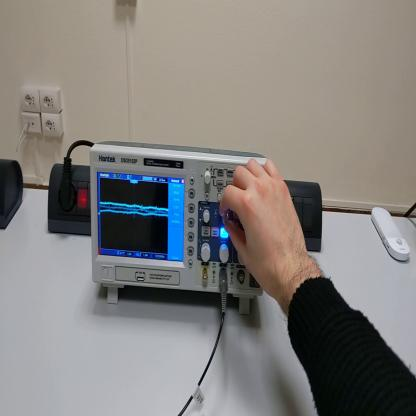hand: (220, 156, 309, 302)
oscilloscope: (90, 141, 269, 315)
socket: (46, 162, 92, 239), (2, 156, 26, 229)
